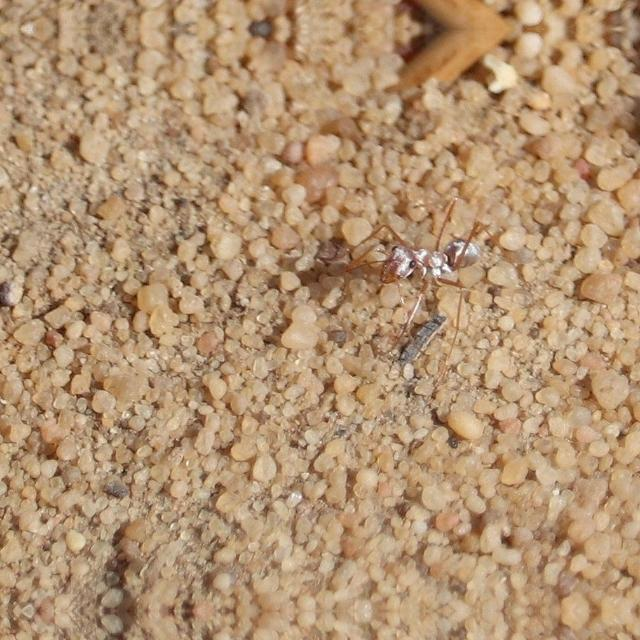Cataglyphis: (352, 210, 506, 306)
